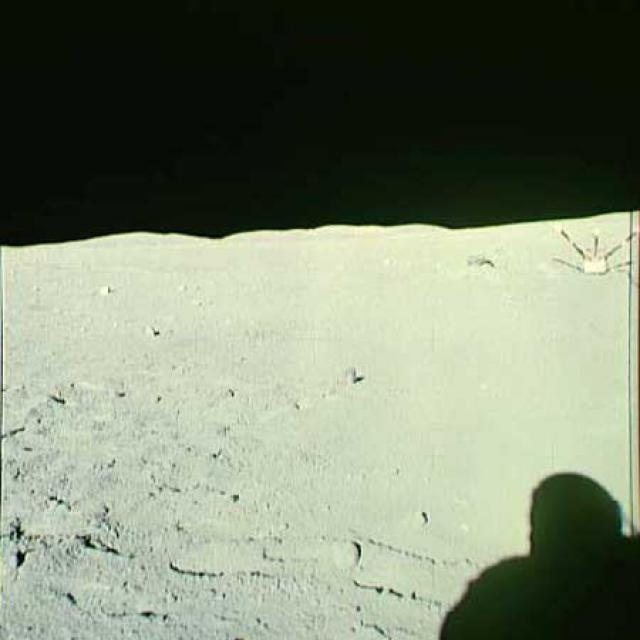artifact: (528, 212, 638, 291)
rock: (328, 356, 370, 388)
